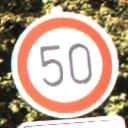speed_limit_50: (11, 13, 119, 118)
